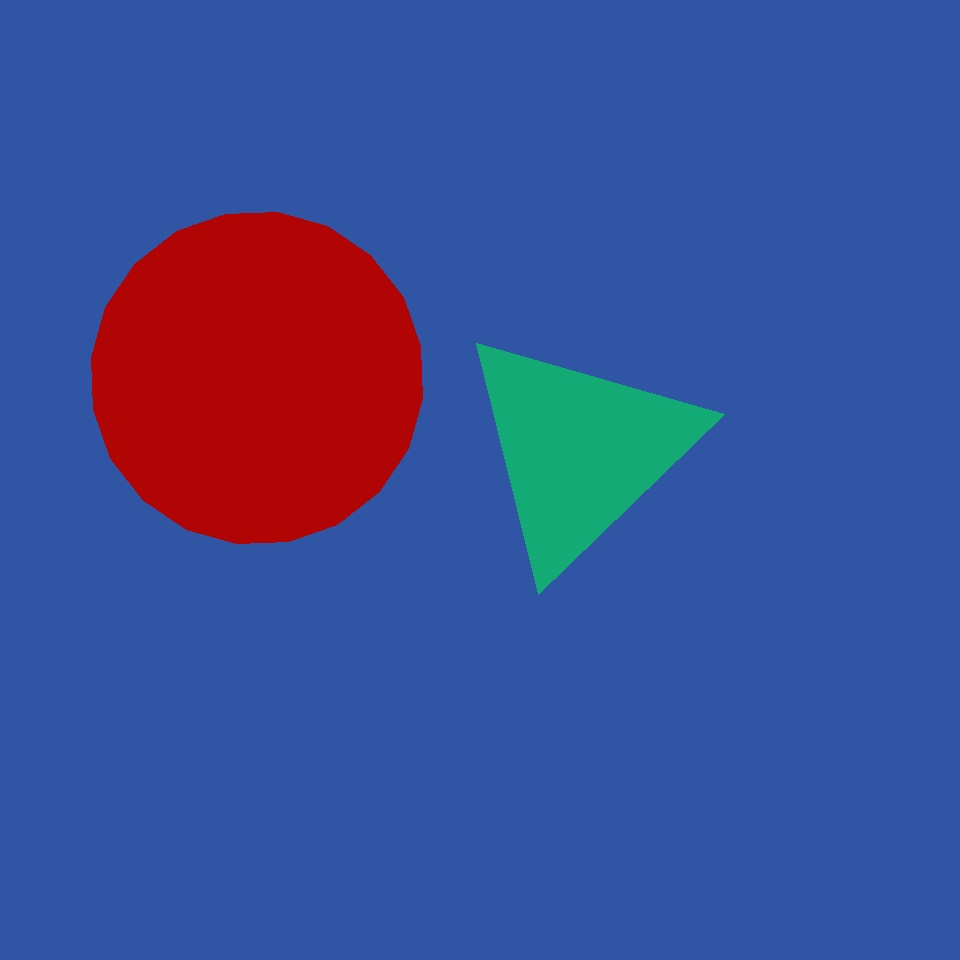circle: (471, 432, 757, 747), (456, 326, 704, 576), (577, 636, 825, 869)
square: (64, 408, 300, 644)
triangle: (92, 212, 422, 544)
